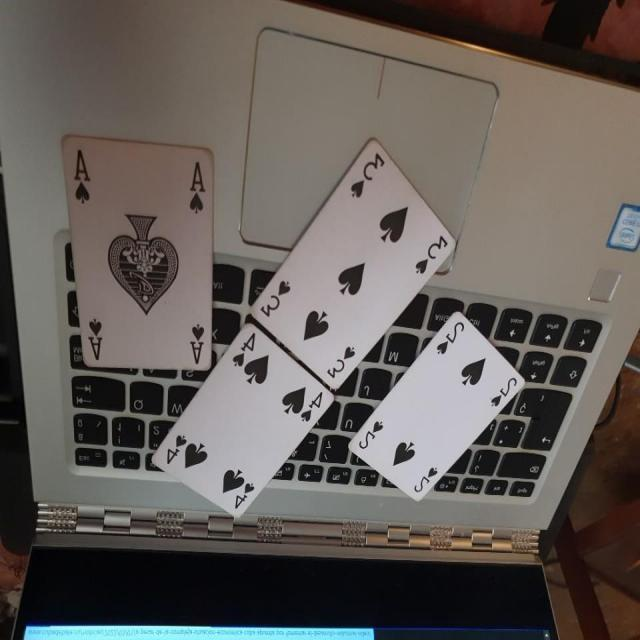2 of spades: (342, 312, 528, 506)
3 of spades: (246, 133, 463, 390)
4 of spades: (144, 329, 332, 527)
ace of spades: (55, 125, 222, 375)
